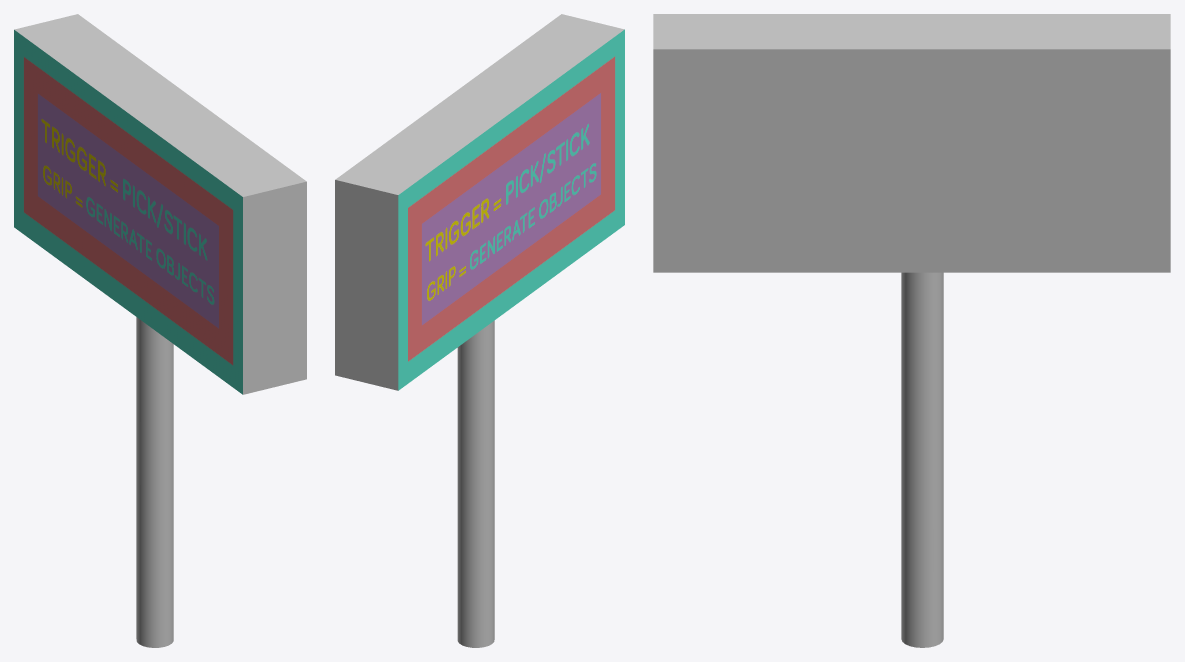
The model's file is instructionsfbx.fbx.
3 views of the same model, side by side, from view 1: azimuth 30°, elevation 25°; view 2: azimuth 150°, elevation 25°; view 3: azimuth 270°, elevation 25° (orthographic). The views are drawn at different scales.
Visible parts, largest first — view 1: instance_1.001, instance_1, instance_0; view 2: instance_1.001, instance_1, instance_0; view 3: instance_1, instance_0.
Part boxes in pixels (left/top/right/bottom): instance_1.001: left=14, top=30, right=242, bottom=394; instance_1: left=14, top=14, right=306, bottom=394; instance_0: left=136, top=317, right=173, bottom=647; instance_1.001: left=398, top=29, right=624, bottom=390; instance_1: left=335, top=14, right=624, bottom=390; instance_0: left=457, top=320, right=494, bottom=647; instance_1: left=653, top=14, right=1170, bottom=272; instance_0: left=901, top=272, right=943, bottom=647.
Bounding box in the file's own units: 21.12 × 170 × 131.
2 materials, 1 textured.
